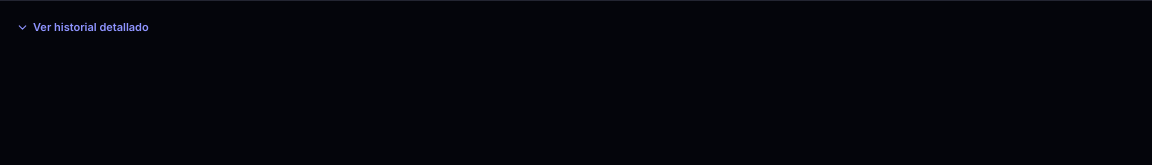
Test: BuyerHistoryDetail › sin pedidos en tránsito con otras tiendas: cero OCULTO, singulares bien y panel SIN ámbar
Click the button "Ver historial detallado": coordinates (91, 27) [16,5,1136,49]
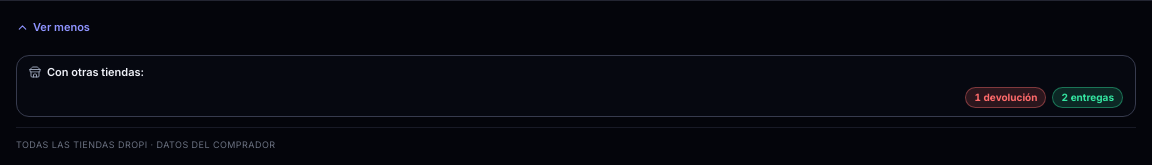
Check: the text "2 entregas" is shown, box [1052,86,1123,108]
Check: the text "1 devolución" is shown, box [965,86,1046,108]
